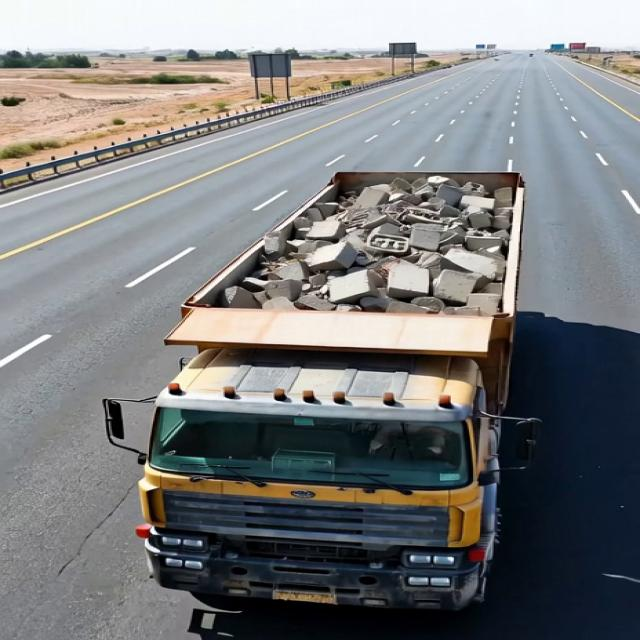Box: (177, 173, 527, 365)
Truck: (102, 136, 570, 614)
